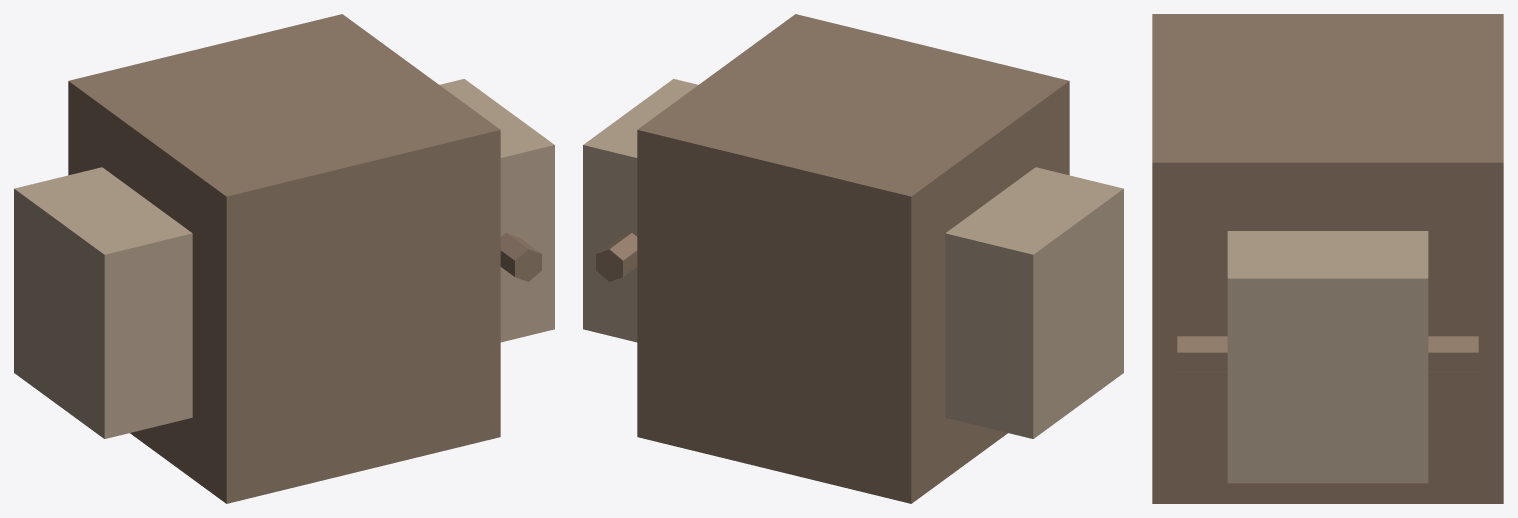
File: arch_wall_plate_joint.glb
The picture shows the model from 3 angles, left to right: view 1: azimuth 30°, elevation 25°; view 2: azimuth 150°, elevation 25°; view 3: azimuth 270°, elevation 25°; orthographic projection. The views are drawn at different scales.
Visible parts, largest first — view 1: arch_wall_plate_joint/joint_mortise_post_cap_00000, arch_wall_plate_joint/joint_penetrating_tenon_00001, arch_wall_plate_joint/joint_locking_peg_00002; view 2: arch_wall_plate_joint/joint_mortise_post_cap_00000, arch_wall_plate_joint/joint_penetrating_tenon_00001, arch_wall_plate_joint/joint_locking_peg_00002; view 3: arch_wall_plate_joint/joint_mortise_post_cap_00000, arch_wall_plate_joint/joint_penetrating_tenon_00001, arch_wall_plate_joint/joint_locking_peg_00002.
Boxes of the visible parts, x1,y1,x2,y2 form: arch_wall_plate_joint/joint_mortise_post_cap_00000: (68,14,500,503); arch_wall_plate_joint/joint_penetrating_tenon_00001: (14,79,554,438); arch_wall_plate_joint/joint_locking_peg_00002: (500,233,541,281); arch_wall_plate_joint/joint_mortise_post_cap_00000: (637,14,1069,503); arch_wall_plate_joint/joint_penetrating_tenon_00001: (583,79,1123,438); arch_wall_plate_joint/joint_locking_peg_00002: (596,233,637,281); arch_wall_plate_joint/joint_mortise_post_cap_00000: (1152,14,1503,503); arch_wall_plate_joint/joint_penetrating_tenon_00001: (1227,231,1428,483); arch_wall_plate_joint/joint_locking_peg_00002: (1177,336,1478,372).
Size of the model in its own units: 0.46 by 0.3 by 0.28.
